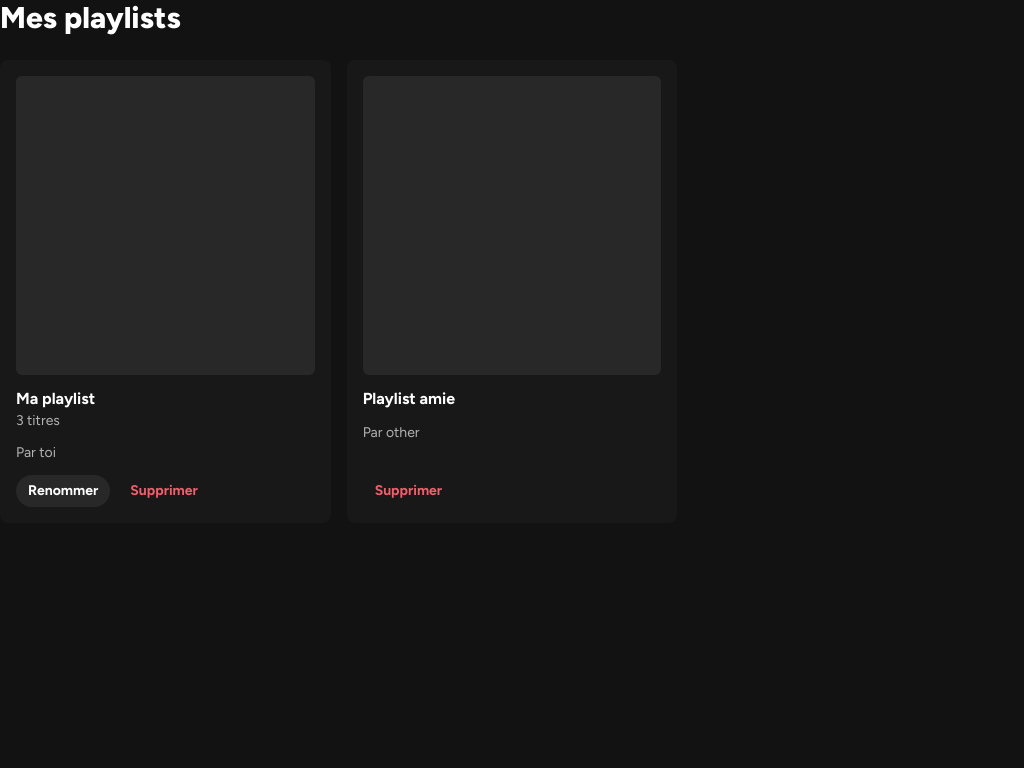
Test: PlaylistsPage › delete failure: error shown on the right card only, buttons re-enabled
This screenshot has width=1024, height=768.
Expected: the heading "Playlist amie" is shown, [363,389,455,408]
Click the button "Supprimer" below "Playlist amie": (408,491) [363,475,454,507]
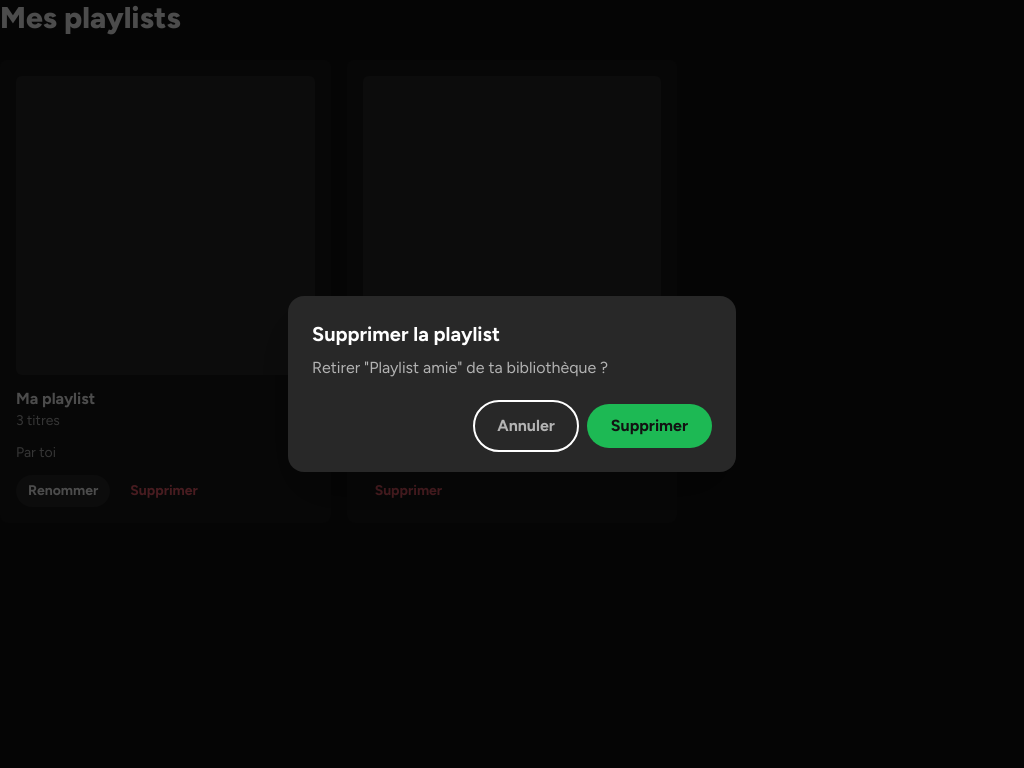
Click the button "Supprimer": (649,426) [587,404,712,448]
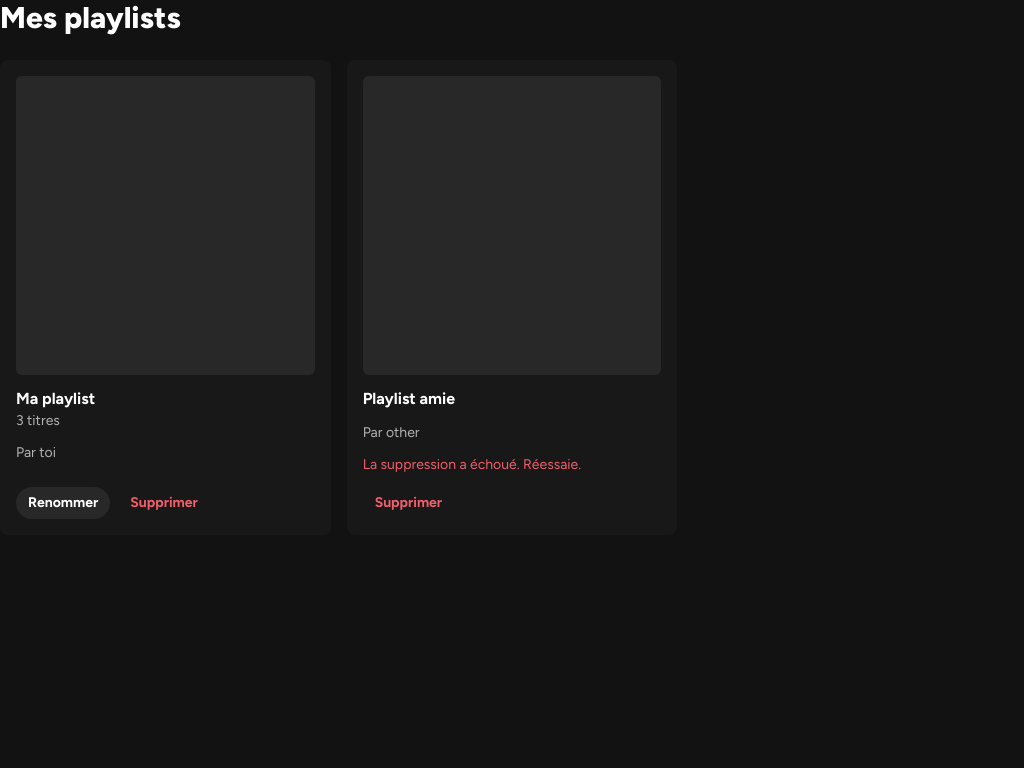
Expected: the button "Supprimer" below "Playlist amie" is enabled, [363,487,454,519]
Now the message shows "La suppression a échoué", box [363,456,581,473]
